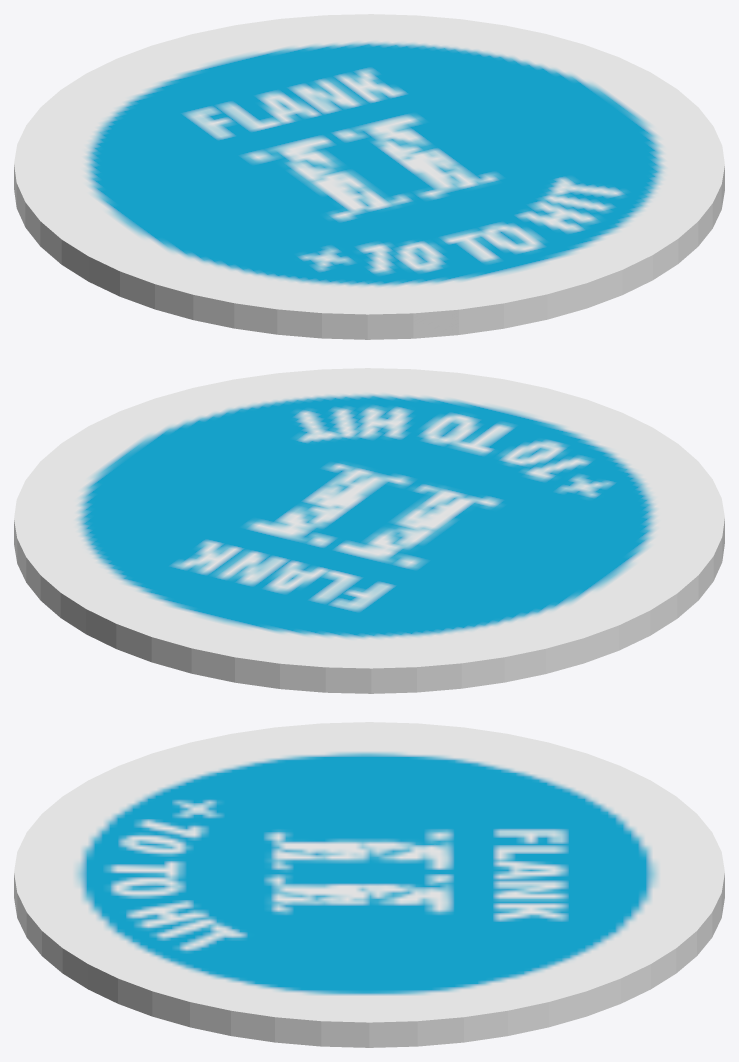
3 renders of one model, top to bottom at view 1: azimuth 30°, elevation 25°; view 2: azimuth 150°, elevation 25°; view 3: azimuth 270°, elevation 25°, orthographic.
Parts seen in each view (by area): view 1: Curve.013_Curve.792; view 2: Curve.013_Curve.792; view 3: Curve.013_Curve.792.
Part boxes in pixels (x1,y1,x2,y2): Curve.013_Curve.792: (14, 14, 724, 339); Curve.013_Curve.792: (14, 368, 724, 693); Curve.013_Curve.792: (14, 722, 724, 1047).
Size of the model in its own units: 1 by 0.0394 by 1.
